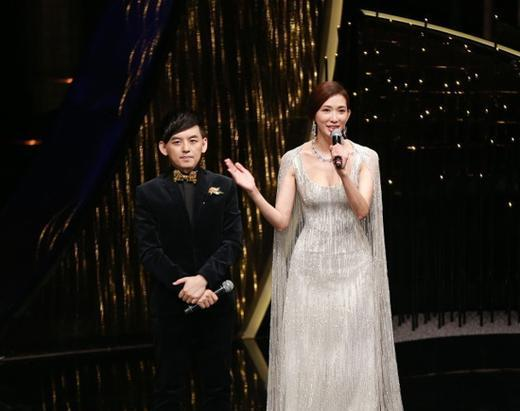handsup: (232, 78, 420, 408)
other: (131, 110, 248, 398)
